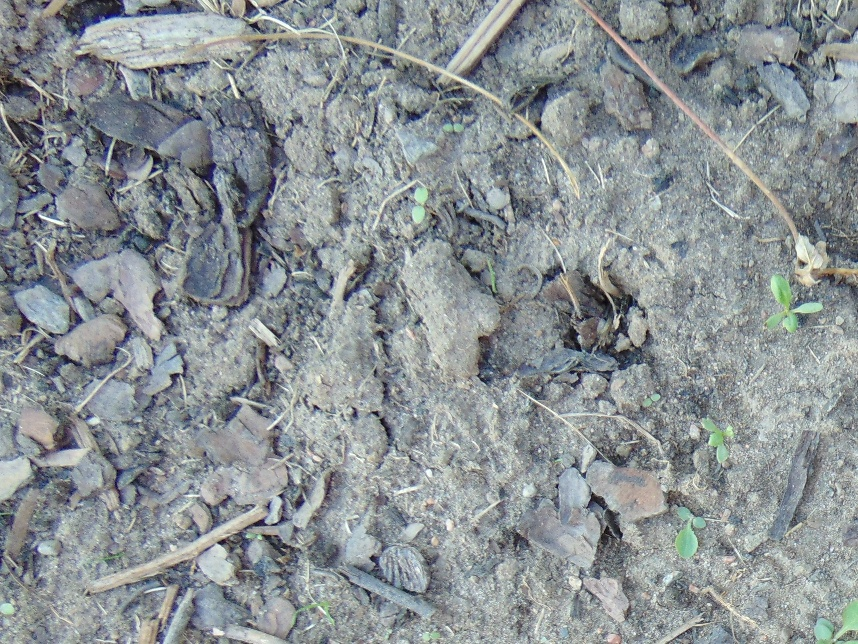weed: (765, 273, 822, 336), (810, 600, 858, 644), (675, 503, 709, 560), (701, 416, 733, 463), (411, 185, 427, 223)
